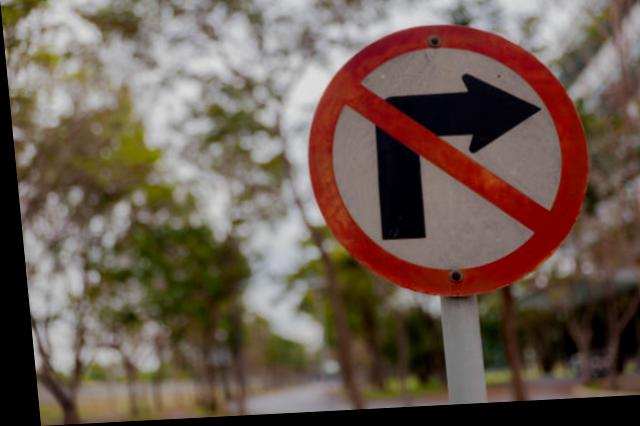not_turn_right: (295, 19, 597, 312)
